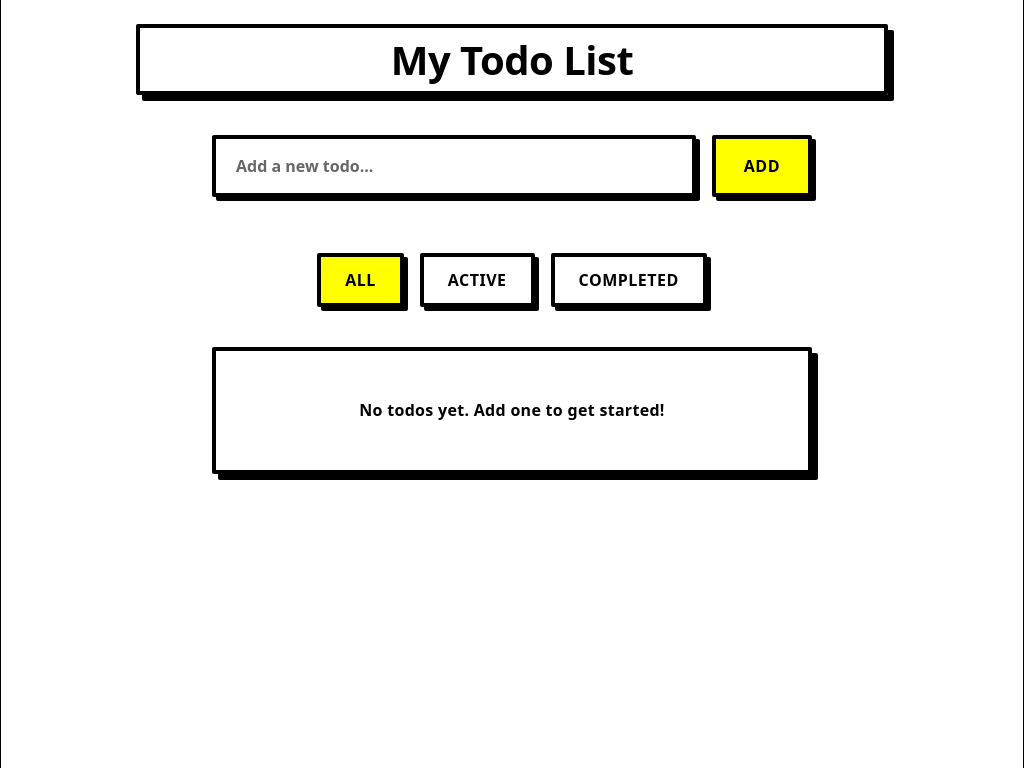
App Component Integration › filters todos by status
Type "Todo 1" into the field named "Add new todo".
click(454, 166); type("Todo 1")  # box [212, 135, 696, 197]
Press Enter
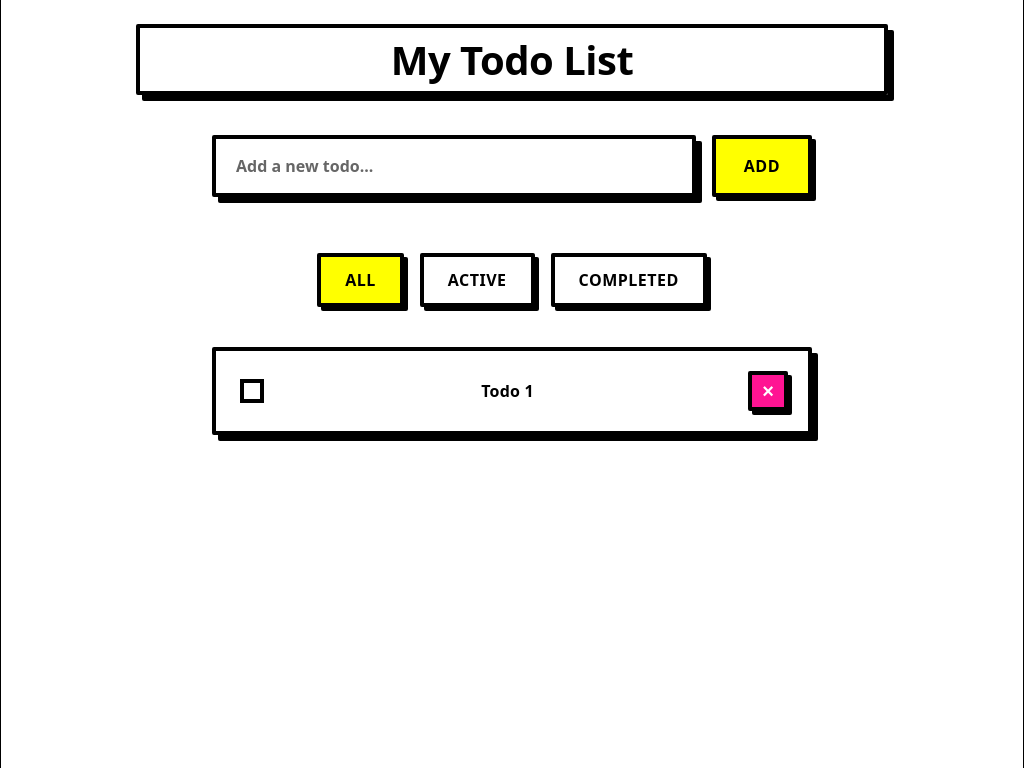
Type "Todo 2" into the field named "Add new todo".
click(454, 166); type("Todo 2")  # box [212, 135, 696, 197]
Press Enter
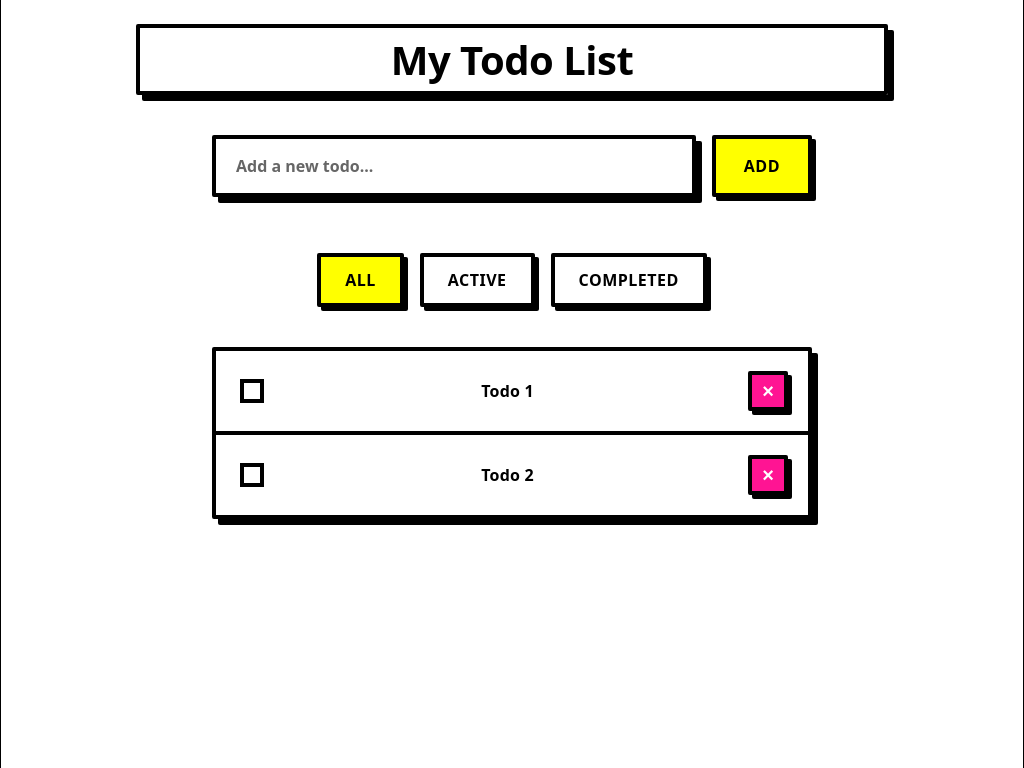
Mark first one as complete
Click the checkbox named "Toggle completion for Todo 1".
click(252, 391)  # box [240, 379, 264, 403]
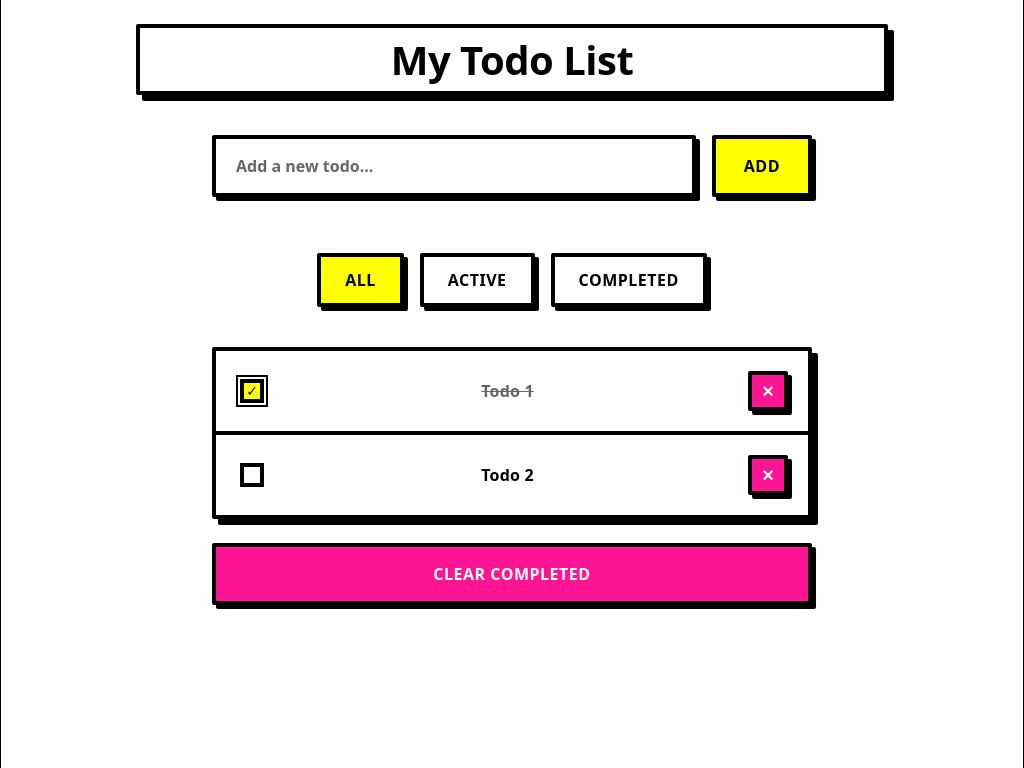
Filter to Active
Click the button with aria-label "Filter: Active".
click(477, 280)  # box [420, 253, 535, 307]
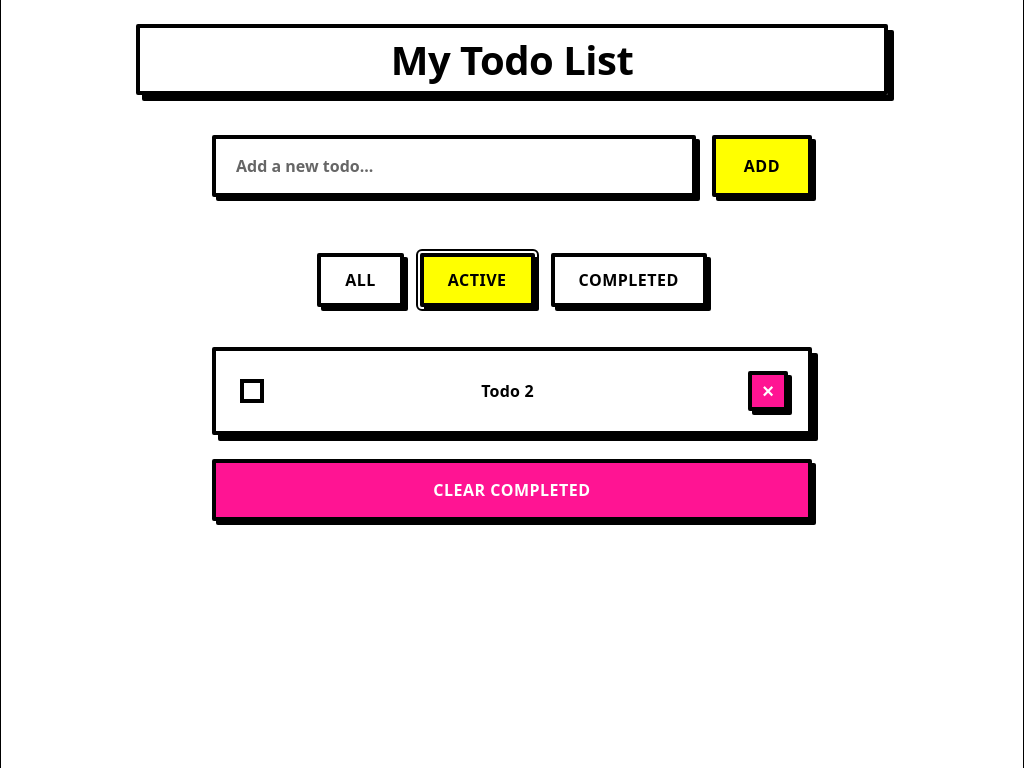
Expected: the text "Todo 2" is shown, [481, 380, 534, 402]
Expected: the text "Todo 1" is gone
Filter to Completed
Click the button with aria-label "Filter: Completed".
click(629, 280)  # box [550, 253, 707, 307]
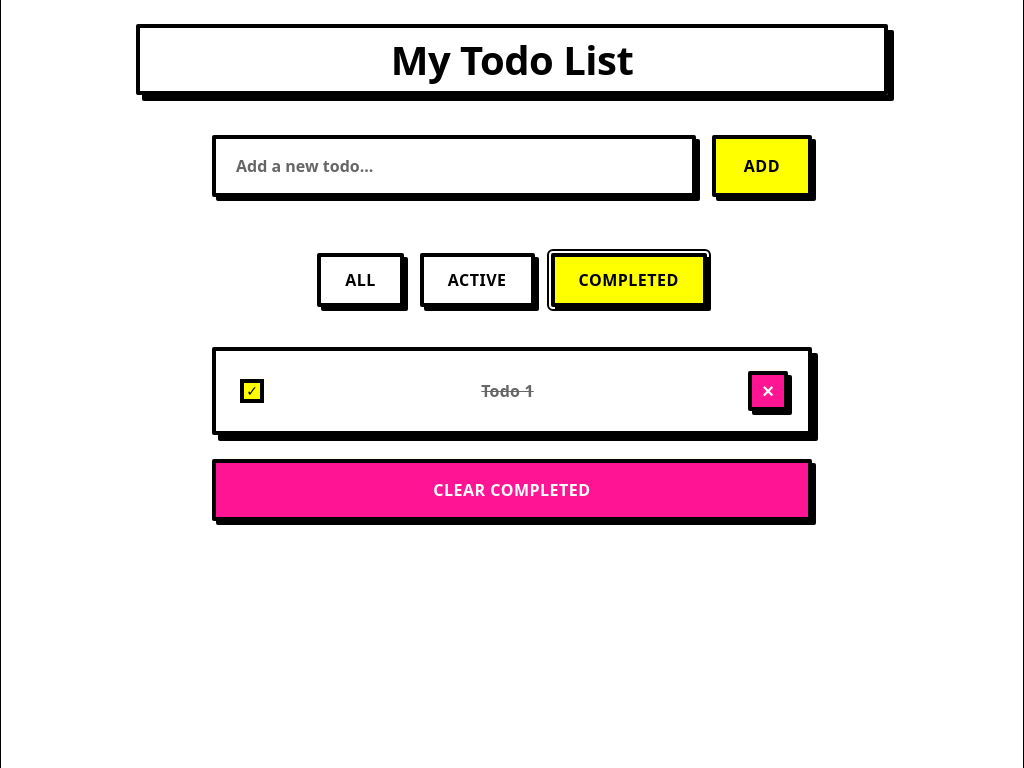
Expected: the text "Todo 1" is shown, [481, 380, 534, 402]
Expected: the text "Todo 2" is gone
Filter to All
Click the button with aria-label "Filter: All".
click(360, 280)  # box [317, 253, 404, 307]
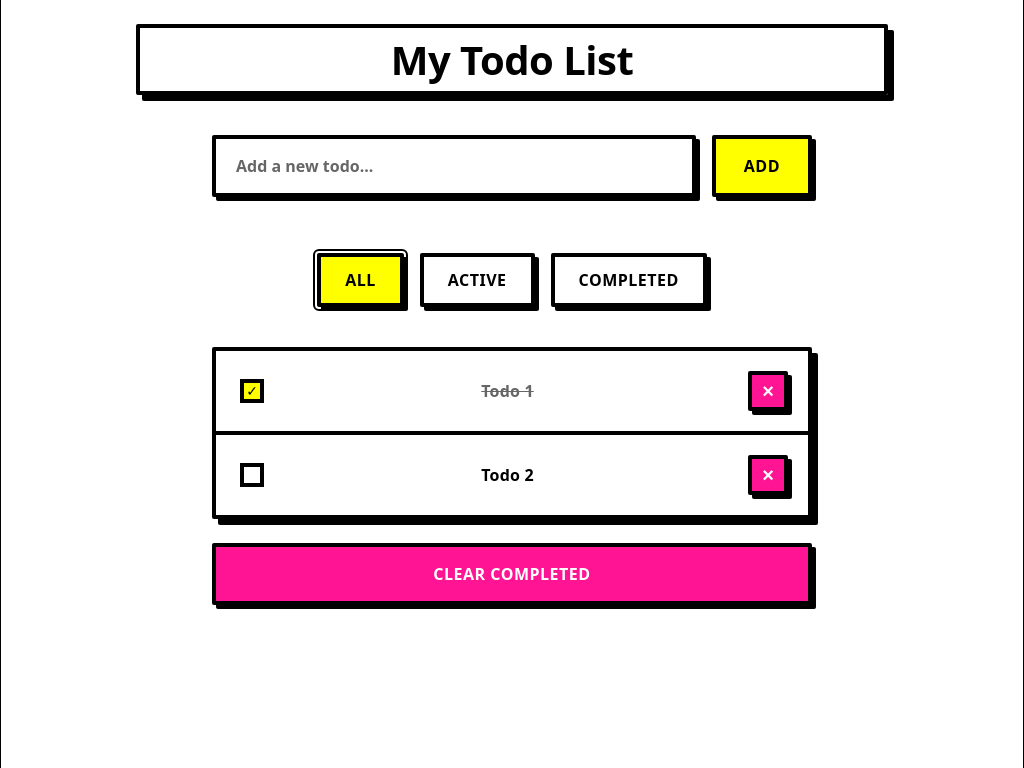
Expected: the text "Todo 1" is shown, [481, 380, 534, 402]
Expected: the text "Todo 2" is shown, [481, 464, 534, 486]
